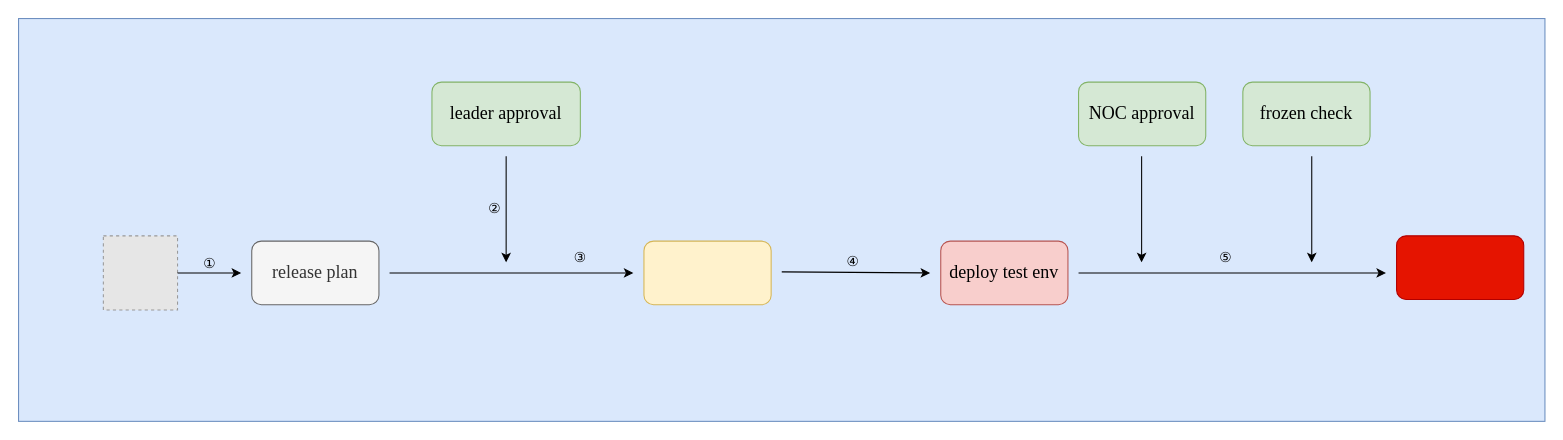
The diagram is 1563 pixels wide and 440 high, and some of its shapes have lost their labels. Grey dashed boxes stand in for pictures. The shapes that lost their labels are listed below. From the top down, each one's box as (x1, y1, x2, y2) in pixels, then its label:
(643, 240, 771, 305): git tag
(1395, 235, 1524, 299): deploy prod env
